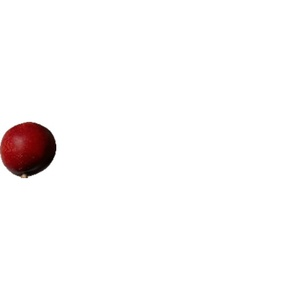nectarina: (3, 124, 57, 179)
